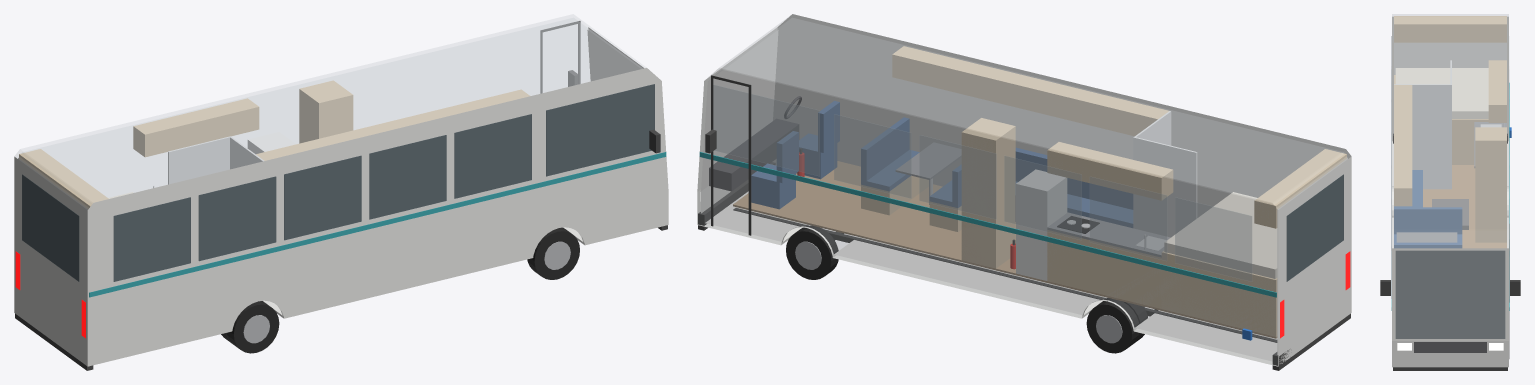
The model's file is eicher_pro3010l_5260wb.glb.
3 renders of one model, left to right at view 1: azimuth 30°, elevation 25°; view 2: azimuth 150°, elevation 25°; view 3: azimuth 270°, elevation 25°, orthographic. The views are drawn at different scales.
Visible parts, largest first — view 1: Body_Shell, Body_Cutaway_LeftWall_Roof, Window_Cab_Right, Window_Right_3, Window_Right_0, Window_Right_2, Window_Right_4, Window_Right_1, Storage_Overhead_Left_Kitchen, Window_Rear, Stripe_Right, Storage_Wardrobe_Tall (+9 smaller); view 2: Body_Cutaway_LeftWall_Roof, Body_Shell, Storage_Overhead_Right, Floor_Living, Storage_Wardrobe_Tall, Window_Cab_Left, Bed_Platform_Fixed_Rear, Bed_Mattress_Double, Kitchen_Base_Cabinets, Window_Left_1, Window_Left_0, Window_Left_2 (+30 smaller); view 3: Body_Cutaway_LeftWall_Roof, Body_Shell, Windscreen, WetRoom_Wall_Front, Storage_Wardrobe_Tall, Storage_Overhead_Rear, Bed_Mattress_Double, Storage_Overhead_Right, Floor_Living, Dinette_Bench_Rear_Backrest, Storage_Overhead_Left_Kitchen, Bed_Platform_Fixed_Rear (+10 smaller).
Part boxes in pixels (x1,y1,x2,y2): Body_Shell: (14,27,668,366); Body_Cutaway_LeftWall_Roof: (15,14,645,209); Window_Cab_Right: (546,84,654,176); Window_Right_3: (198,176,276,261); Window_Right_0: (454,114,531,198); Window_Right_2: (284,155,361,240); Window_Right_4: (113,197,190,281); Window_Right_1: (369,135,446,219); Storage_Overhead_Left_Kitchen: (133,98,259,157); Window_Rear: (22,174,79,281); Stripe_Right: (89,152,666,297); Storage_Wardrobe_Tall: (299,80,353,143); Body_Cutaway_LeftWall_Roof: (698,14,1350,365); Body_Shell: (697,14,1351,366); Storage_Overhead_Right: (892,46,1168,136); Floor_Living: (733,161,1277,338); Storage_Wardrobe_Tall: (961,118,1015,268); Window_Cab_Left: (713,85,819,176); Bed_Platform_Fixed_Rear: (1161,251,1277,336); Bed_Mattress_Double: (1164,192,1277,278); Kitchen_Base_Cabinets: (1047,230,1161,308); Window_Left_1: (919,135,996,219); Window_Left_0: (834,114,911,198); Window_Left_2: (1004,156,1081,239); Body_Cutaway_LeftWall_Roof: (1392,14,1508,247); Body_Shell: (1392,16,1508,367); Windscreen: (1395,250,1505,338); WetRoom_Wall_Front: (1394,84,1451,189); Storage_Wardrobe_Tall: (1475,127,1506,242); Storage_Overhead_Rear: (1394,16,1506,42); Bed_Mattress_Double: (1395,68,1488,118); Storage_Overhead_Right: (1394,85,1412,206); Floor_Living: (1423,165,1506,248); Dinette_Bench_Rear_Backrest: (1394,207,1462,234); Storage_Overhead_Left_Kitchen: (1488,60,1506,122); Bed_Platform_Fixed_Rear: (1394,75,1488,164).
Bounding box in the file's own units: 10.17 × 3.2 × 2.67.
